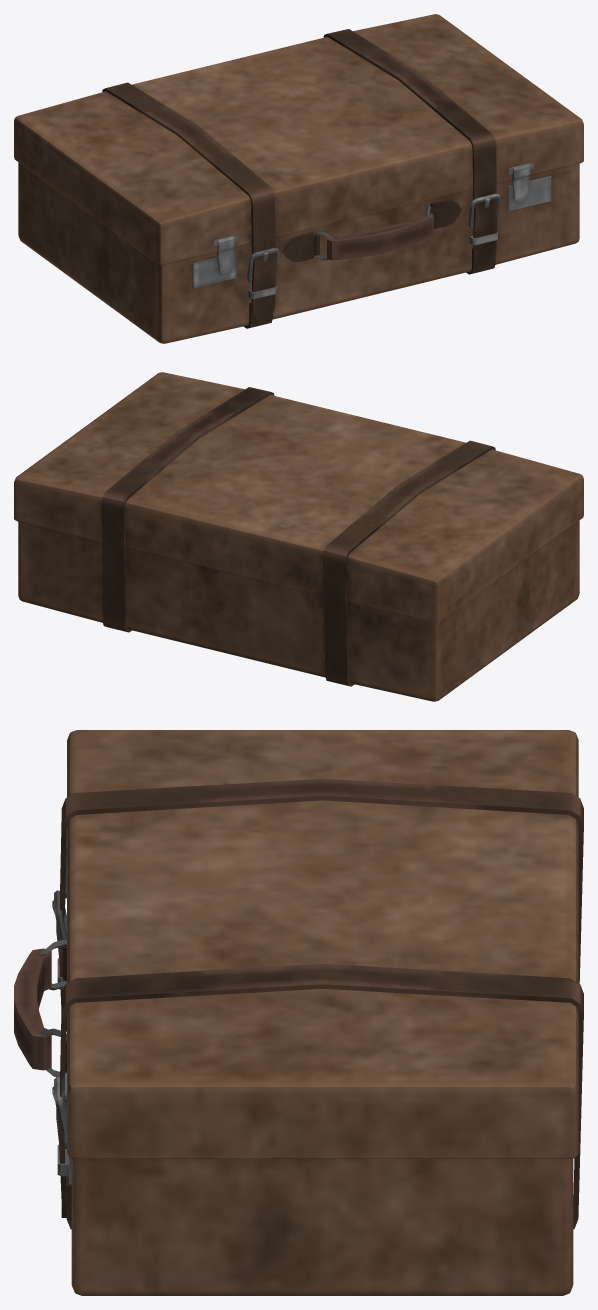
Rendered from SM_Luggage_A.fbx.
3 renders of one model, top to bottom at view 1: azimuth 30°, elevation 25°; view 2: azimuth 150°, elevation 25°; view 3: azimuth 270°, elevation 25°, orthographic. The views are drawn at different scales.
Visible parts, largest first — view 1: SM_Luggage_A; view 2: SM_Luggage_A; view 3: SM_Luggage_A.
Boxes of the visible parts, x1,y1,x2,y2 form: SM_Luggage_A: (14,14,583,343); SM_Luggage_A: (14,372,583,701); SM_Luggage_A: (14,730,583,1295).
Size of the model in its own units: 0.6962 by 0.4664 by 0.2343.
